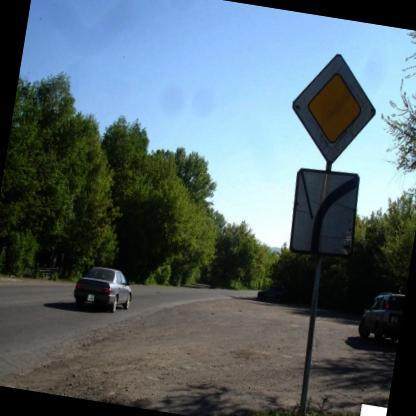road_sign: (293, 54, 375, 165), (290, 169, 359, 256)
